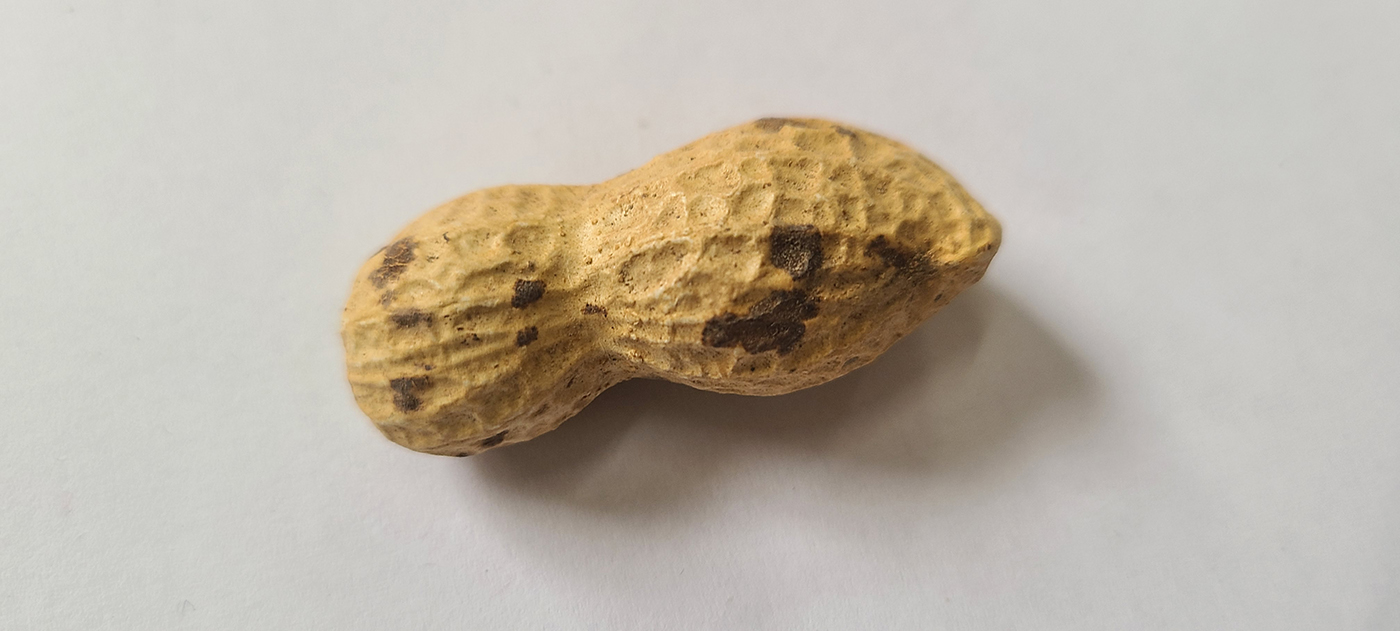h: (333, 107, 1005, 459)
